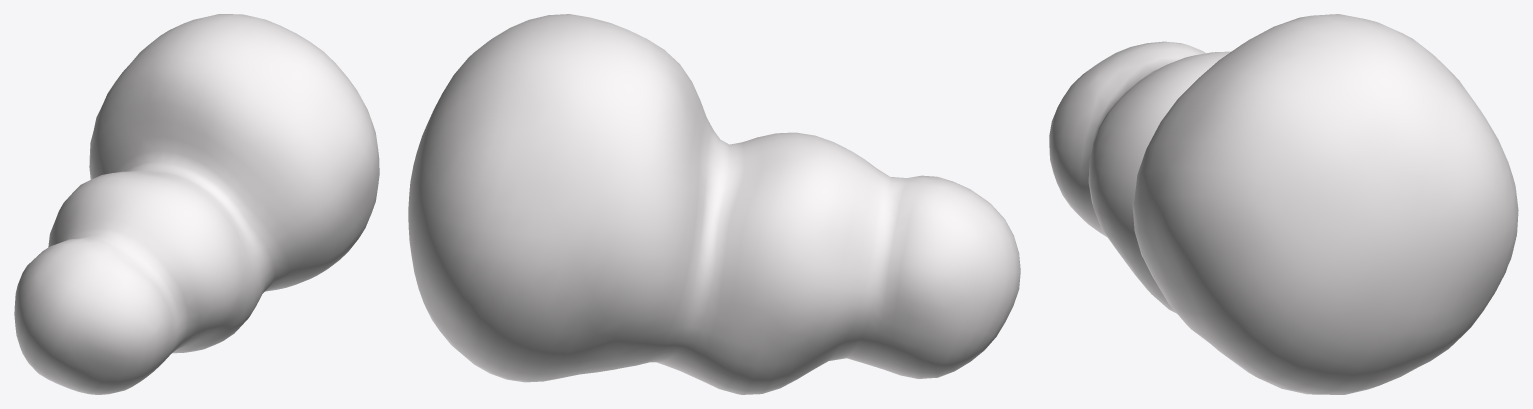
File: cloud.gltf
3 renders of one model, left to right at view 1: azimuth 30°, elevation 25°; view 2: azimuth 150°, elevation 25°; view 3: azimuth 270°, elevation 25°, orthographic. The views are drawn at different scales.
Parts seen in each view (by area): view 1: node_id30; view 2: node_id30; view 3: node_id30.
Boxes of the visible parts, <box> form: node_id30: <box>14,14,379,394</box>; node_id30: <box>408,14,1020,394</box>; node_id30: <box>1049,14,1518,394</box>.
Size of the model in its own units: 0.4836 by 0.3151 by 0.3897.
1 material, 1 textured.
